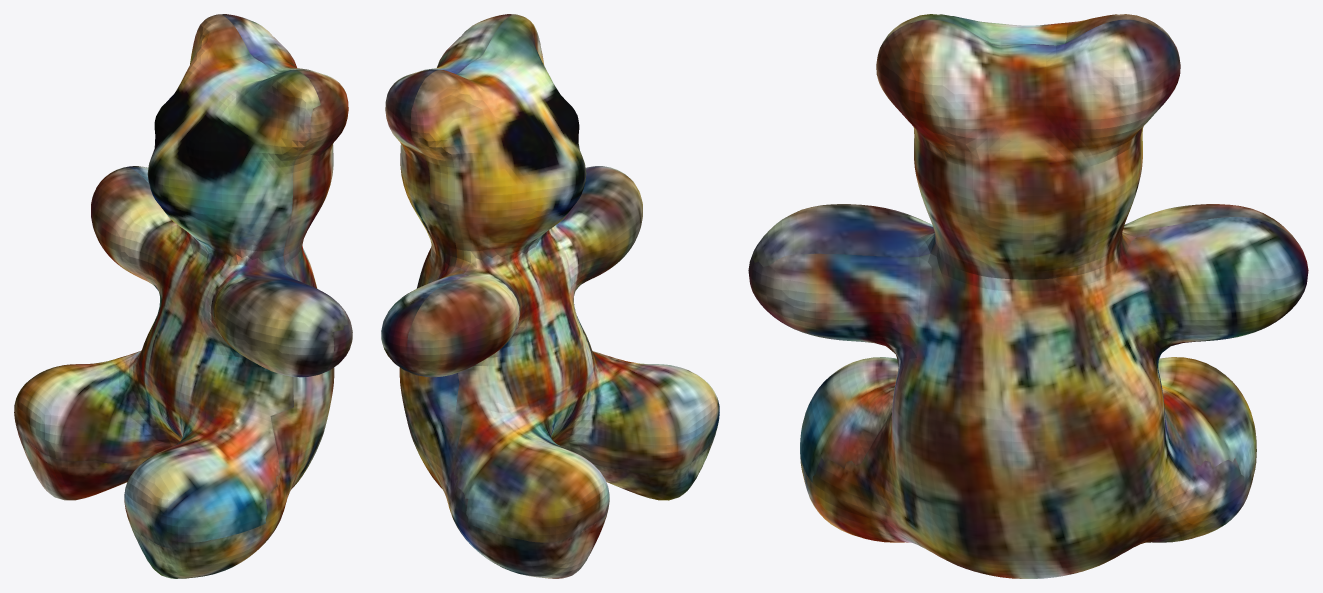
The model's file is teddy_selectionconv.glb.
3 renders of one model, left to right at view 1: azimuth 30°, elevation 25°; view 2: azimuth 150°, elevation 25°; view 3: azimuth 270°, elevation 25°, orthographic. The views are drawn at different scales.
Parts seen in each view (by area): view 1: Sphere_Sphere.001; view 2: Sphere_Sphere.001; view 3: Sphere_Sphere.001.
Part boxes in pixels (x1=…): Sphere_Sphere.001: x1=14, y1=14, x2=352, y2=578; Sphere_Sphere.001: x1=381, y1=14, x2=719, y2=578; Sphere_Sphere.001: x1=748, y1=14, x2=1308, y2=578.
Size of the model in its own units: 3.12 by 5.66 by 4.87.
1 material, 1 textured.
